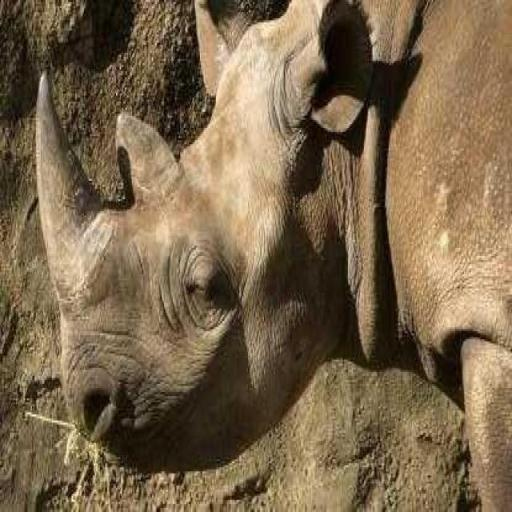Rhino: (32, 0, 511, 508)
